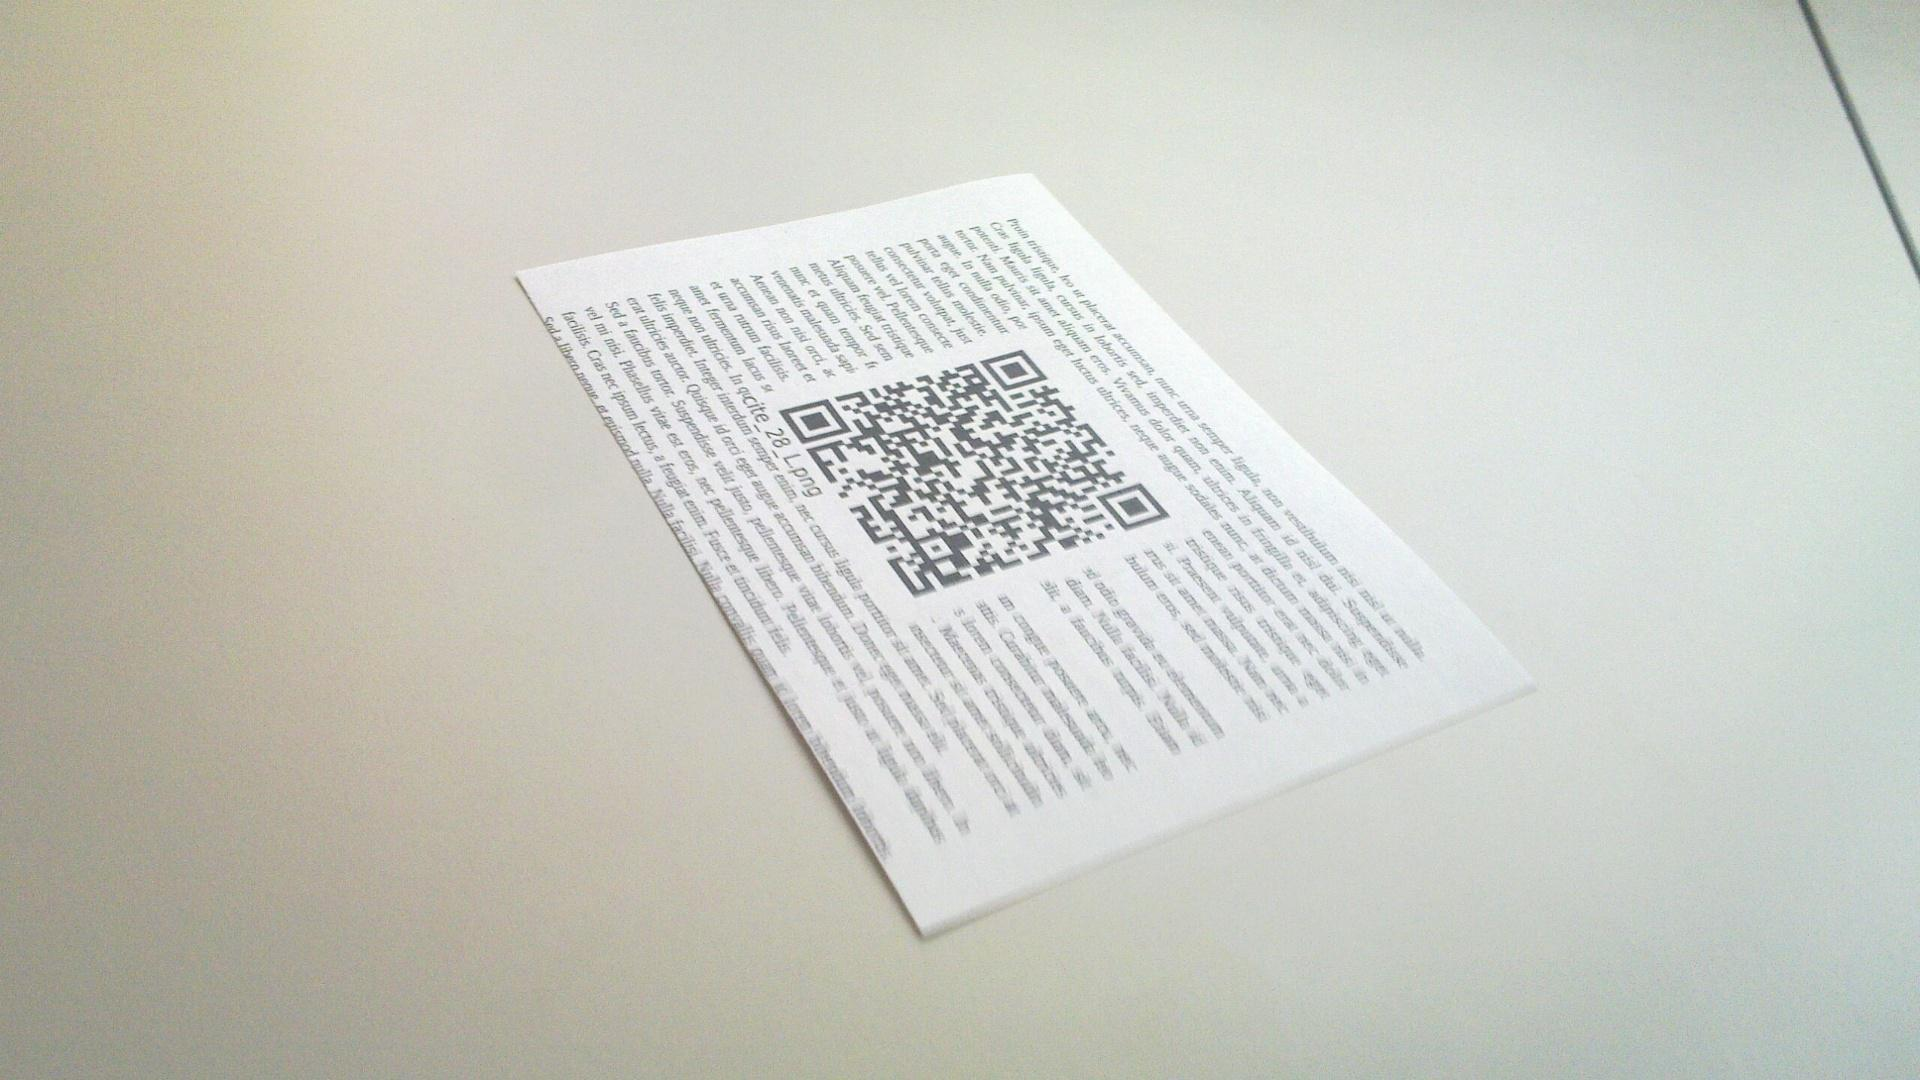Finder pattern: (1096, 479, 1166, 531), (781, 394, 849, 444), (975, 343, 1048, 389)
